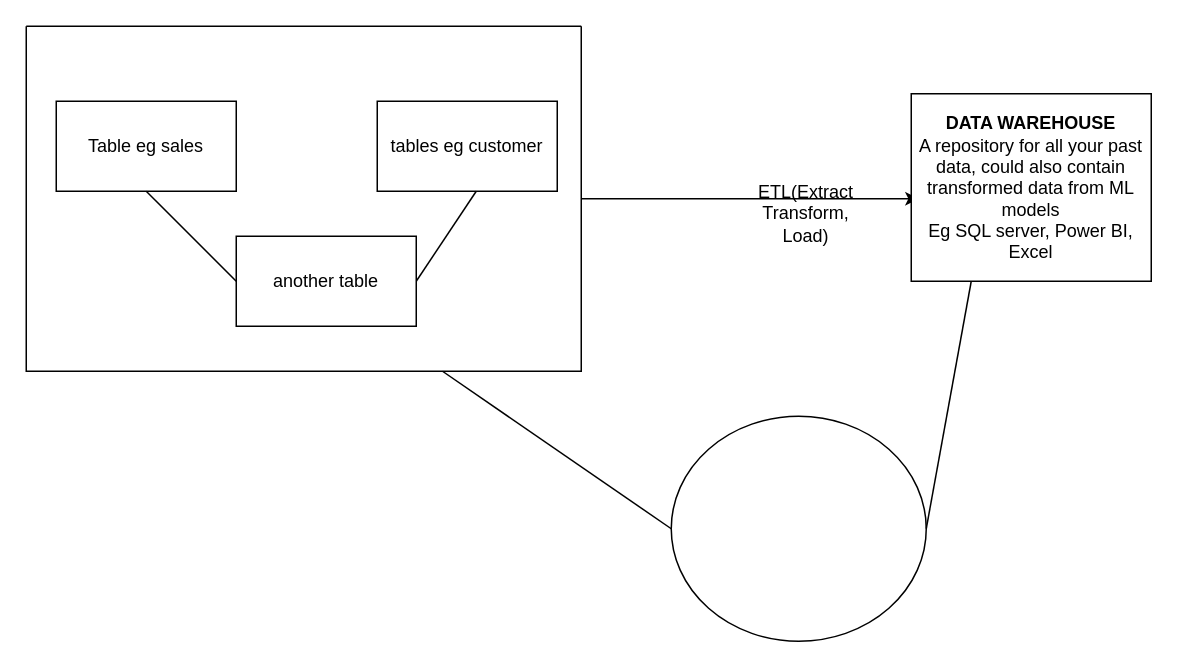
Image size: 1178x668. Some labels were removed from this diagram. The box of each missing label's shape, as (x1, y1, x2, y2) in pixels:
DATA LAKE Miscellaneous data Most in cloud, on AWS, Azure, BigQuery: (670, 415, 926, 641)
DATABASES eg Spreadsheets, SQL , Oracle, MS-Access: (25, 25, 581, 371)
